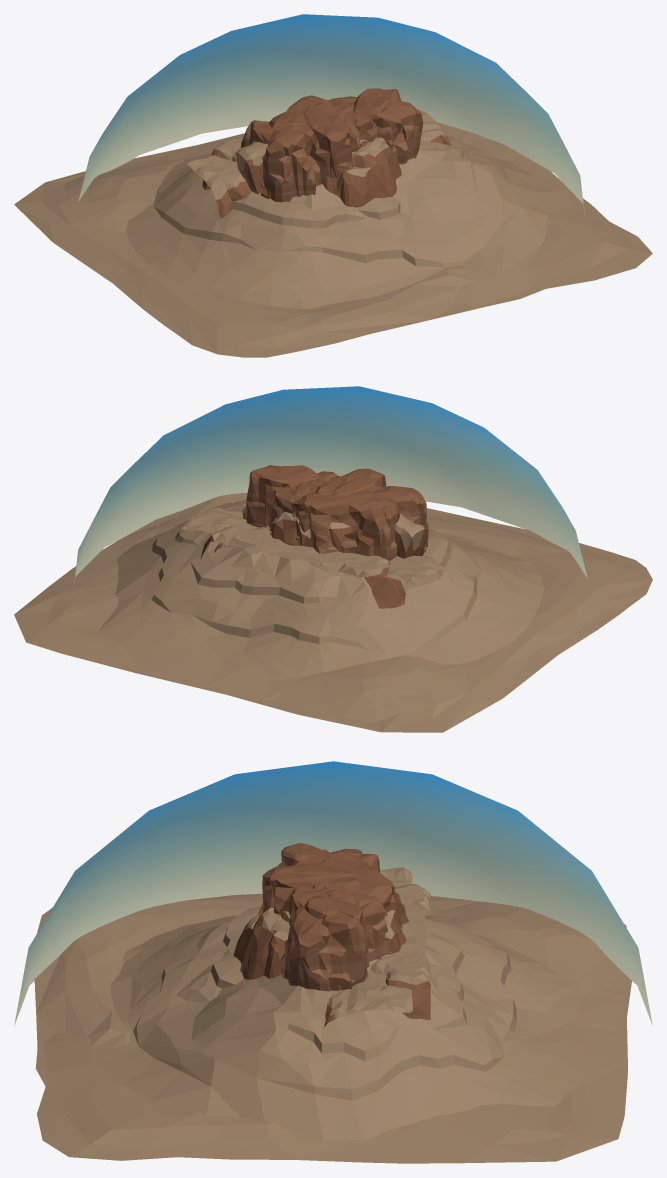
File: town.glb
3 renders of one model, top to bottom at view 1: azimuth 30°, elevation 25°; view 2: azimuth 150°, elevation 25°; view 3: azimuth 270°, elevation 25°, orthographic. The views are drawn at different scales.
Parts seen in each view (by area): view 1: part_0076, part_0276, part_0078, part_0001, part_0088, part_0002, part_0020, part_0097, part_0370; view 2: part_0076, part_0276, part_0078, part_0001, part_0370, part_0002, part_0067, part_0097, part_0024; view 3: part_0076, part_0276, part_0078, part_0001, part_0370, part_0002, part_0088, part_0020, part_0067.
Part boxes in pixels (x1,y1,x2,y2): part_0076: (126, 134, 548, 309); part_0276: (78, 14, 585, 218); part_0078: (14, 123, 652, 357); part_0001: (240, 88, 423, 202); part_0088: (322, 137, 401, 207); part_0002: (186, 109, 451, 218); part_0020: (355, 197, 413, 239); part_0097: (235, 141, 267, 194); part_0370: (202, 137, 243, 189); part_0076: (99, 500, 544, 700); part_0276: (73, 386, 587, 593); part_0078: (14, 492, 652, 732); part_0001: (245, 465, 428, 565); part_0370: (200, 525, 405, 608); part_0002: (181, 507, 452, 585); part_0067: (271, 512, 352, 551); part_0097: (395, 513, 427, 558); part_0024: (212, 543, 375, 600); part_0076: (42, 906, 624, 1140); part_0276: (14, 761, 652, 1025); part_0078: (34, 893, 631, 1163); part_0001: (258, 843, 409, 991); part_0370: (367, 884, 430, 1020); part_0002: (324, 867, 412, 1027); part_0088: (233, 908, 290, 979); part_0020: (177, 953, 243, 1002); part_0067: (281, 910, 405, 953).
Bounding box in the file's own units: 66.64 × 37.64 × 65.88.
20 materials, 13 textured.
